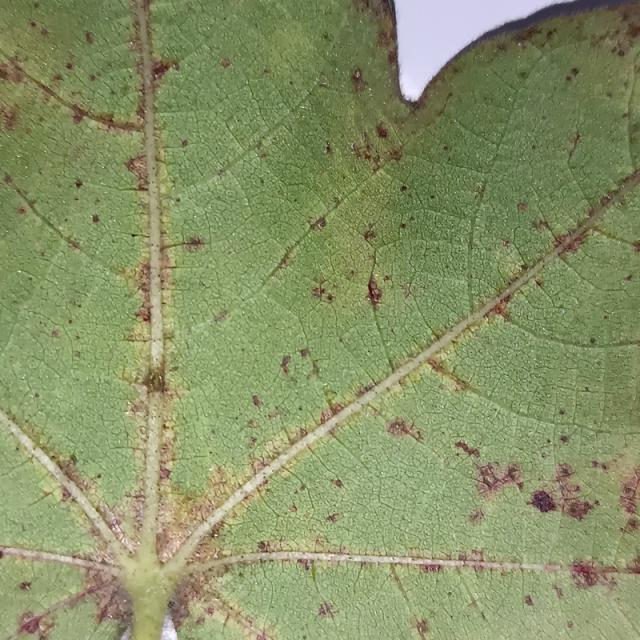Bacterial_Blight: (525, 462, 600, 521), (124, 3, 160, 114), (54, 457, 109, 516), (486, 267, 536, 318), (65, 99, 141, 132), (155, 510, 201, 563), (123, 307, 168, 359), (473, 460, 525, 503), (98, 505, 141, 557), (350, 125, 399, 169), (278, 347, 320, 385), (547, 226, 589, 258), (96, 589, 129, 629), (616, 465, 640, 517), (165, 587, 192, 633), (304, 275, 341, 304), (571, 561, 609, 589), (119, 363, 157, 390), (386, 417, 424, 443), (36, 468, 63, 499), (123, 153, 149, 185), (482, 295, 511, 323), (16, 609, 47, 635), (0, 57, 27, 86), (529, 489, 558, 514), (148, 58, 176, 81), (174, 483, 206, 503), (269, 251, 292, 277), (453, 439, 480, 459), (366, 276, 384, 306), (318, 404, 342, 426), (352, 142, 377, 163), (566, 131, 581, 165), (350, 67, 369, 93), (410, 614, 432, 636), (206, 519, 227, 542), (2, 106, 20, 132), (316, 602, 338, 619), (184, 236, 205, 253), (556, 462, 574, 479), (400, 282, 416, 300), (135, 305, 151, 323), (468, 509, 484, 525), (308, 216, 325, 231), (212, 309, 229, 324), (420, 563, 442, 574), (280, 354, 291, 374), (71, 110, 85, 125), (375, 123, 388, 138), (325, 513, 342, 524), (67, 238, 81, 251), (364, 229, 377, 242), (159, 466, 171, 480), (309, 562, 317, 581), (17, 581, 32, 591), (331, 478, 343, 489), (257, 541, 269, 552), (252, 394, 262, 407), (85, 31, 94, 45), (220, 58, 231, 68), (517, 202, 528, 212), (524, 595, 534, 606), (300, 348, 309, 358), (325, 142, 332, 154), (51, 329, 60, 338), (91, 214, 100, 223), (17, 206, 26, 215), (616, 48, 625, 57), (519, 70, 528, 79), (75, 179, 83, 188), (571, 68, 579, 77), (559, 435, 568, 443), (288, 505, 297, 513), (0, 549, 6, 560), (260, 150, 268, 158), (65, 62, 73, 70), (566, 622, 574, 630), (399, 222, 407, 229), (181, 139, 188, 147), (626, 274, 634, 281), (354, 70, 361, 78), (400, 185, 407, 192), (589, 337, 596, 344)
Cotton: (150, 0, 639, 639), (0, 0, 149, 546), (0, 423, 126, 639)
